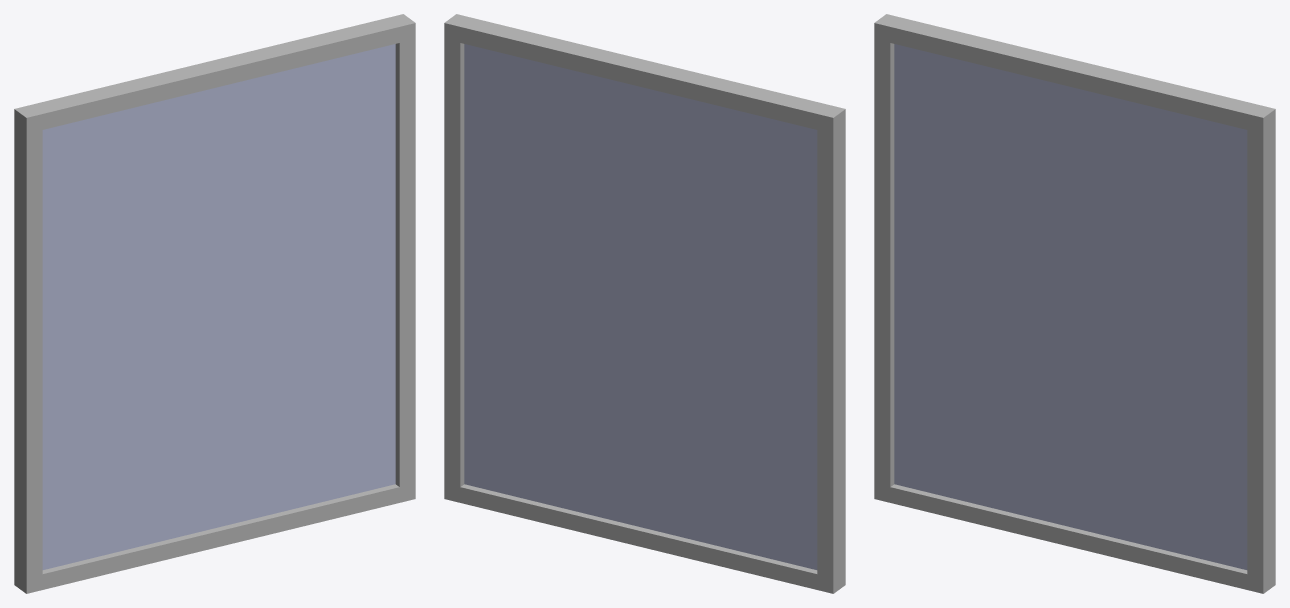
Rendered from Window_04_B_SM.FBX.
The picture shows the model from 3 angles, left to right: view 1: azimuth 30°, elevation 25°; view 2: azimuth 150°, elevation 25°; view 3: azimuth 330°, elevation 25°; orthographic projection.
Visible parts, largest first — view 1: Window_04_B_SM; view 2: Window_04_B_SM; view 3: Window_04_B_SM.
Part boxes in pixels (x1,y1,x2,y2): Window_04_B_SM: [14, 14, 415, 593]; Window_04_B_SM: [444, 14, 845, 593]; Window_04_B_SM: [874, 14, 1275, 593].
Size of the model in its own units: 167 by 9.13 by 196.
